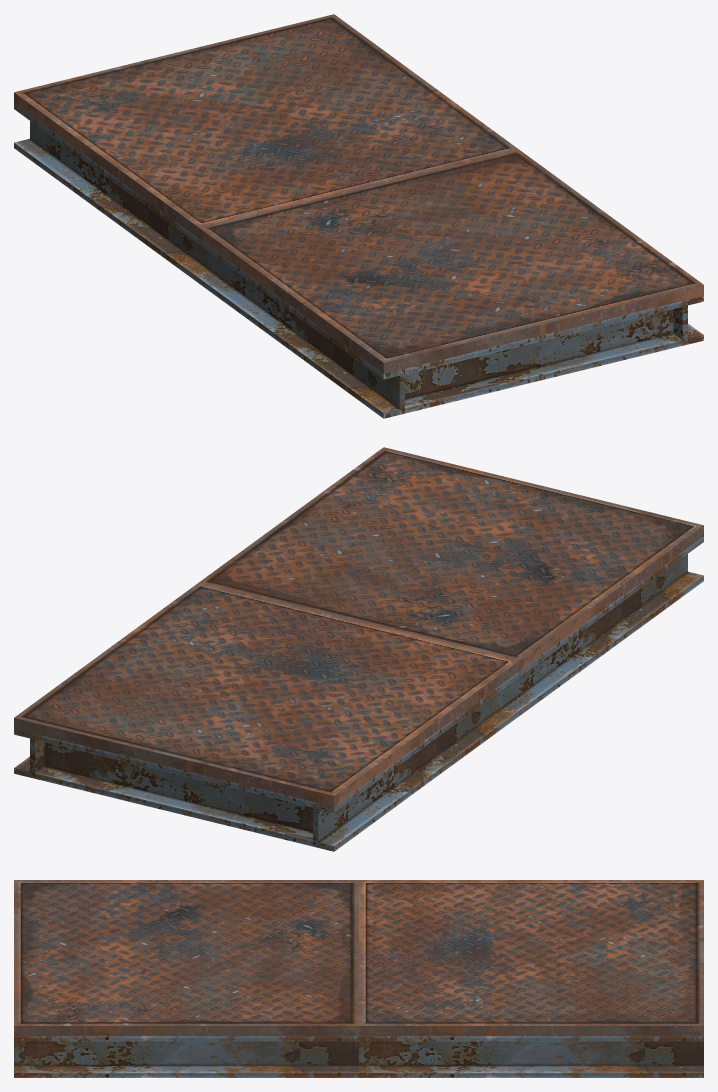
File: platform_1.5x3m.fbx
3 renders of one model, top to bottom at view 1: azimuth 30°, elevation 25°; view 2: azimuth 150°, elevation 25°; view 3: azimuth 270°, elevation 25°, orthographic. The views are drawn at different scales.
Parts seen in each view (by area): view 1: platform_1.5x3m; view 2: platform_1.5x3m; view 3: platform_1.5x3m.
Boxes of the visible parts, x1,y1,x2,y2 form: platform_1.5x3m: (14, 14, 703, 418); platform_1.5x3m: (14, 447, 703, 851); platform_1.5x3m: (14, 880, 703, 1077).
Size of the model in its own units: 150 by 25 by 300.
